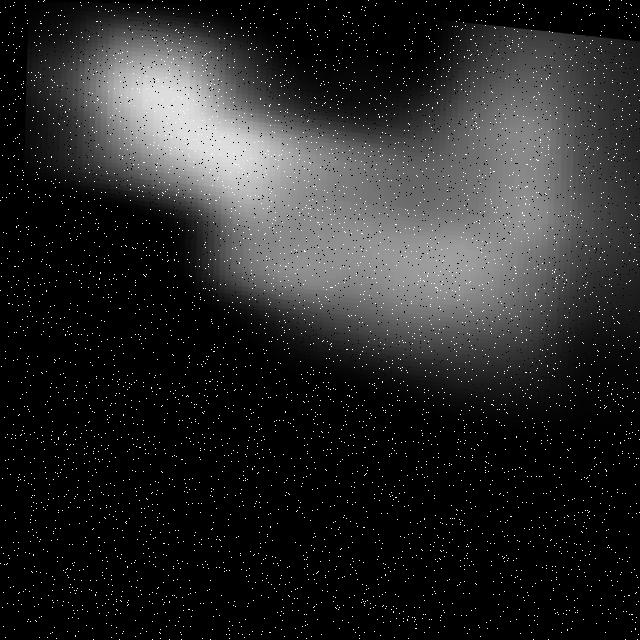person: (1, 1, 640, 455)
